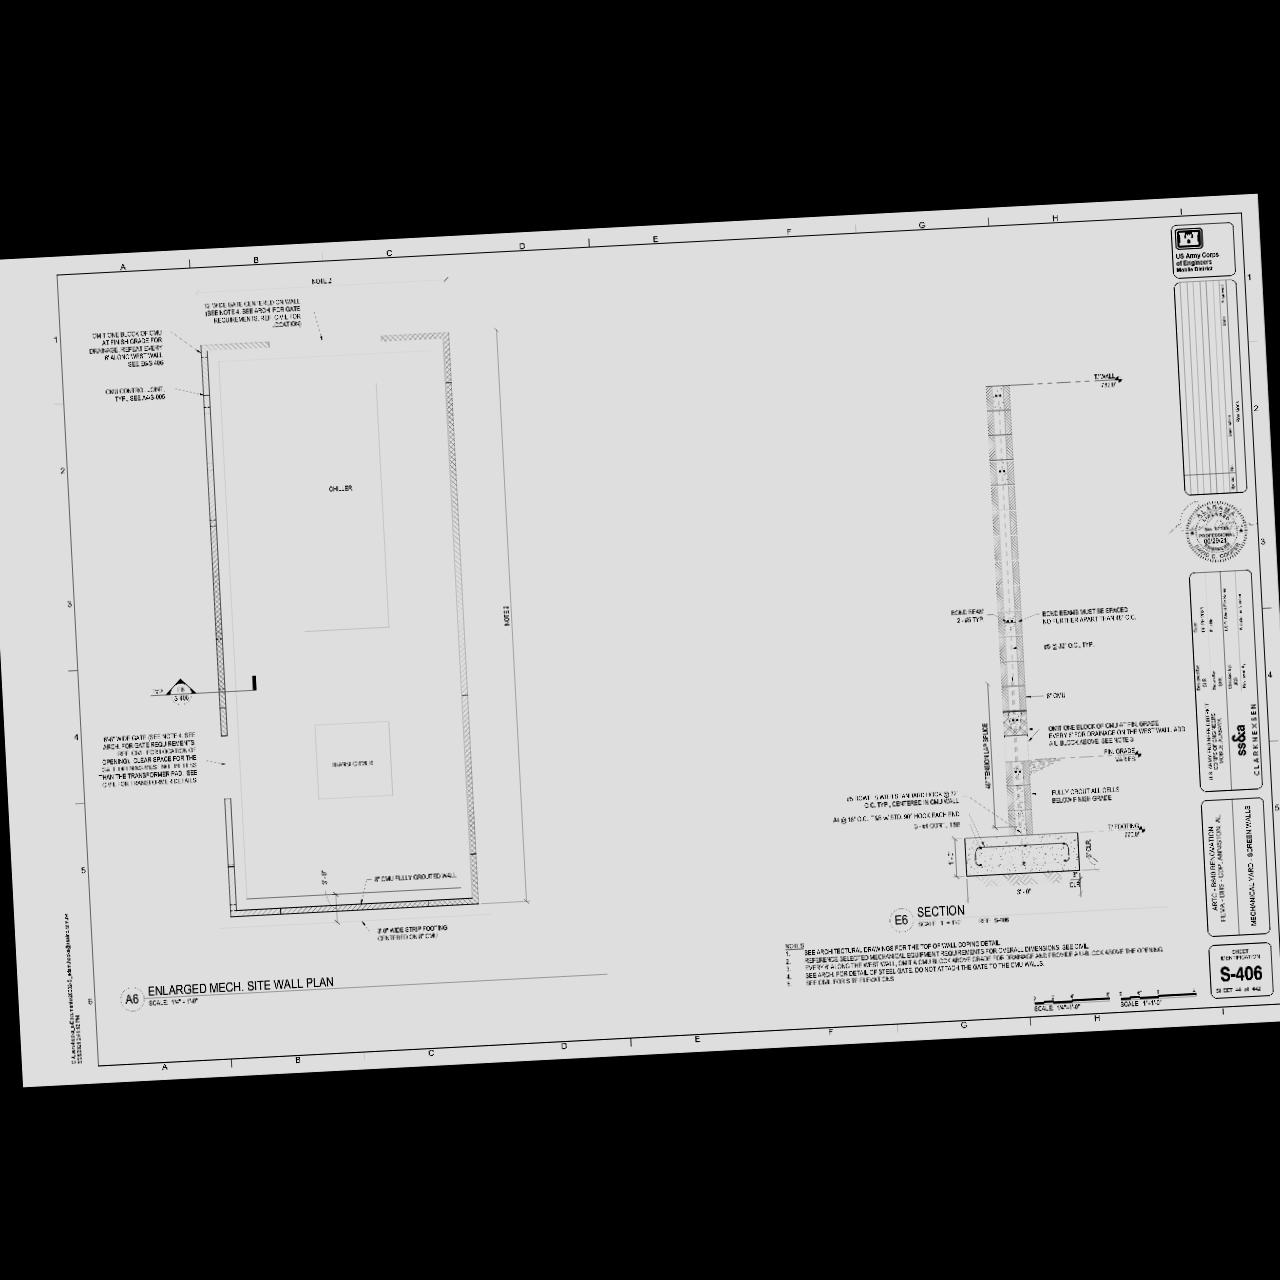elevation: (163, 674, 199, 708)
title: (115, 956, 613, 1016), (885, 890, 1173, 937)
